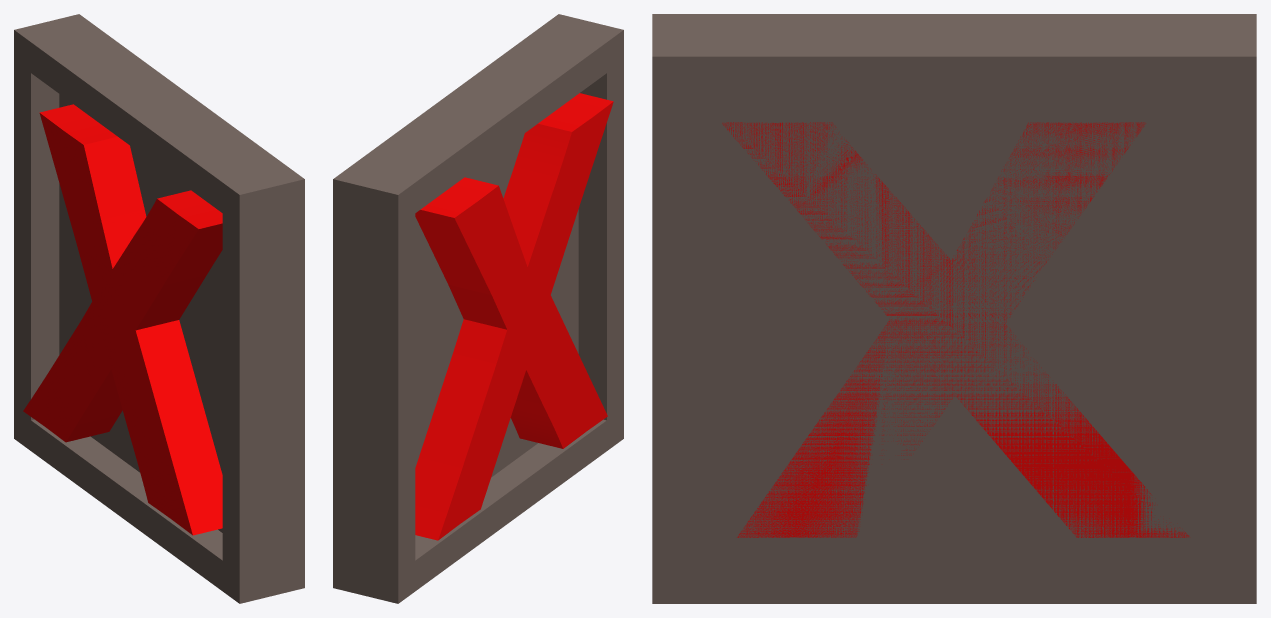
Rendered from 08 Red Signel.FBX.
The picture shows the model from 3 angles, left to right: view 1: azimuth 30°, elevation 25°; view 2: azimuth 150°, elevation 25°; view 3: azimuth 270°, elevation 25°; orthographic projection. The views are drawn at different scales.
Visible parts, largest first — view 1: Red_signel_2; view 2: Red_signel_2; view 3: Red_signel_2.
Boxes of the visible parts, x1,y1,x2,y2 form: Red_signel_2: (14, 14, 304, 603); Red_signel_2: (333, 14, 623, 603); Red_signel_2: (652, 14, 1256, 603).
Bounding box in the file's own units: 24.06 × 117 × 117.
